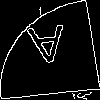A: (25, 24, 69, 74)
